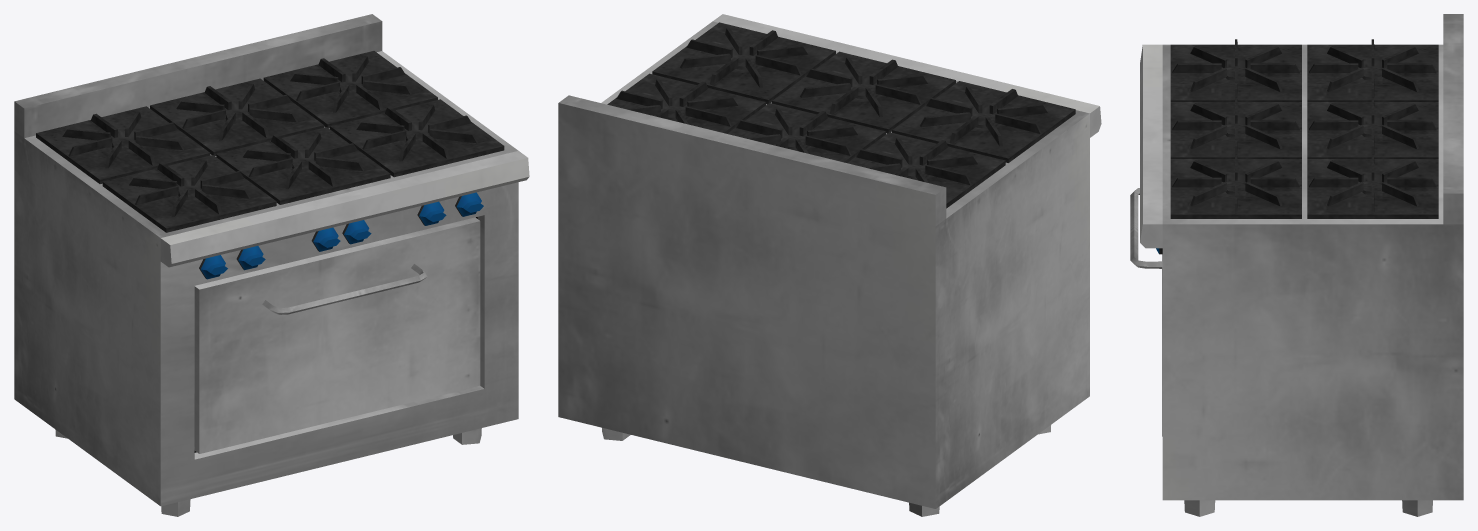
Rendered from Stove.fbx.
3 renders of one model, left to right at view 1: azimuth 30°, elevation 25°; view 2: azimuth 150°, elevation 25°; view 3: azimuth 270°, elevation 25°, orthographic. The views are drawn at different scales.
Parts seen in each view (by area): view 1: Stove; view 2: Stove; view 3: Stove.
Part boxes in pixels (box(x1,y1,x2,y2)): Stove: box(14, 14, 529, 516); Stove: box(558, 14, 1101, 516); Stove: box(1130, 14, 1463, 516).
Bounding box in the file's own units: 135 × 117 × 106.
